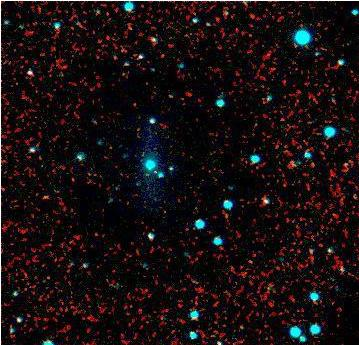star: (141, 160, 171, 190)
